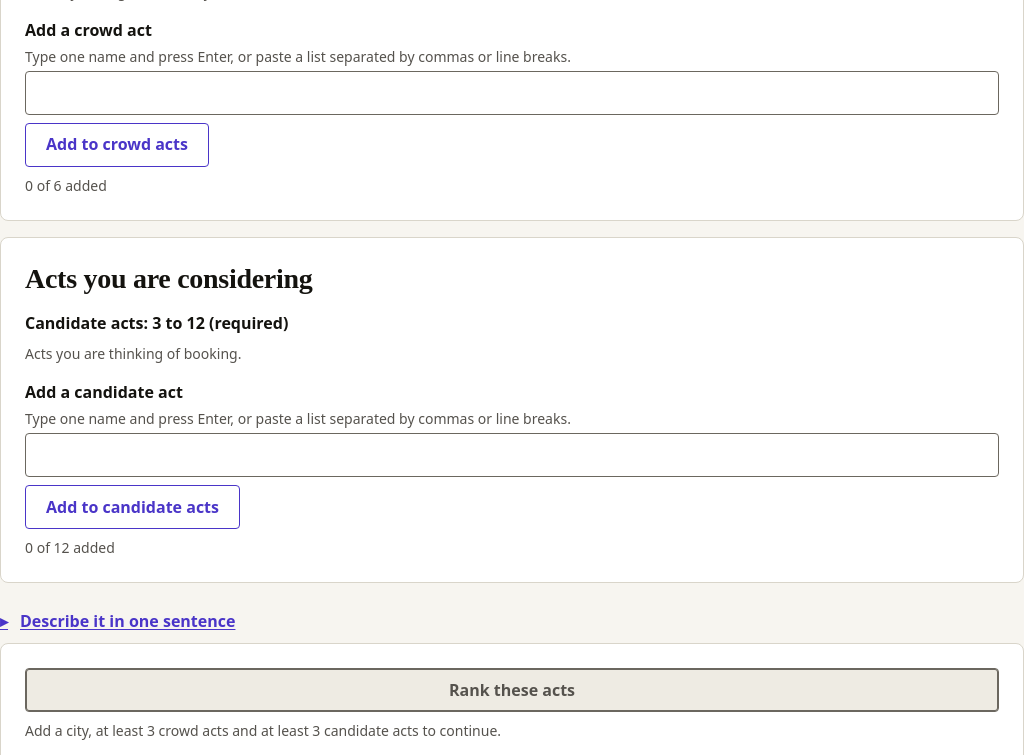
Test case: one-sentence intake in the room form › reading: the button is aria-busy with 'Reading…', the region is aria-busy and a status says what is happening
(page scrolled)
Click the heading "Describe it in one sentence": (128, 621) left=20, top=610, right=236, bottom=632
(page scrolled)
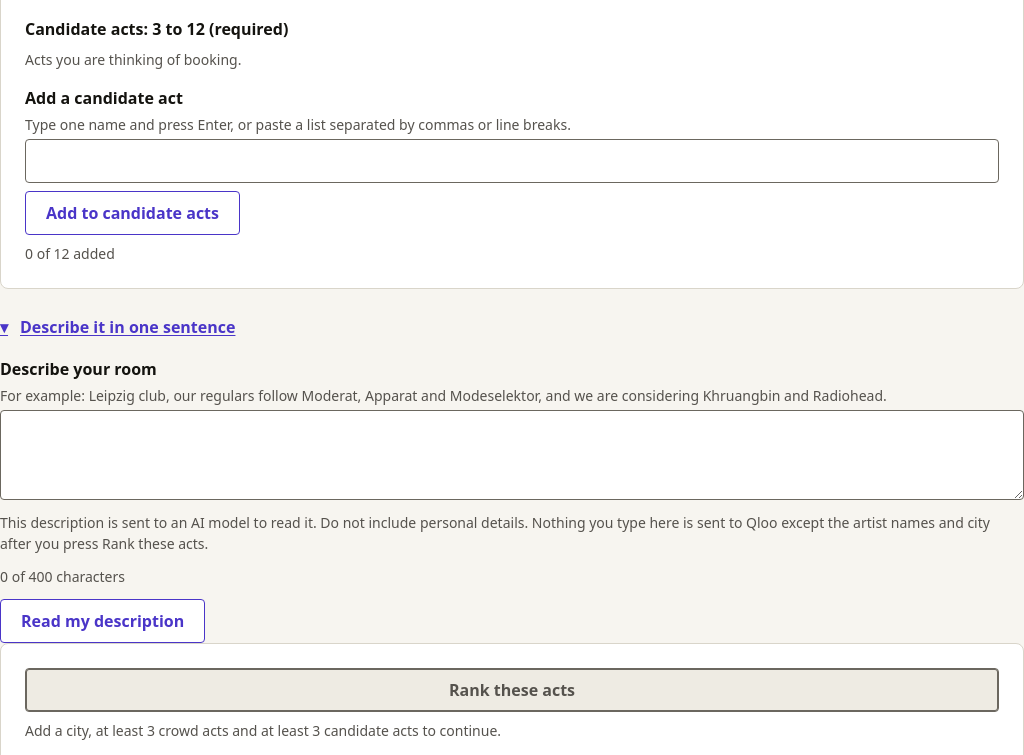
In the text box labelled "Describe your room": (512, 455) left=0, top=410, right=1023, bottom=500, type "Leipzig club"
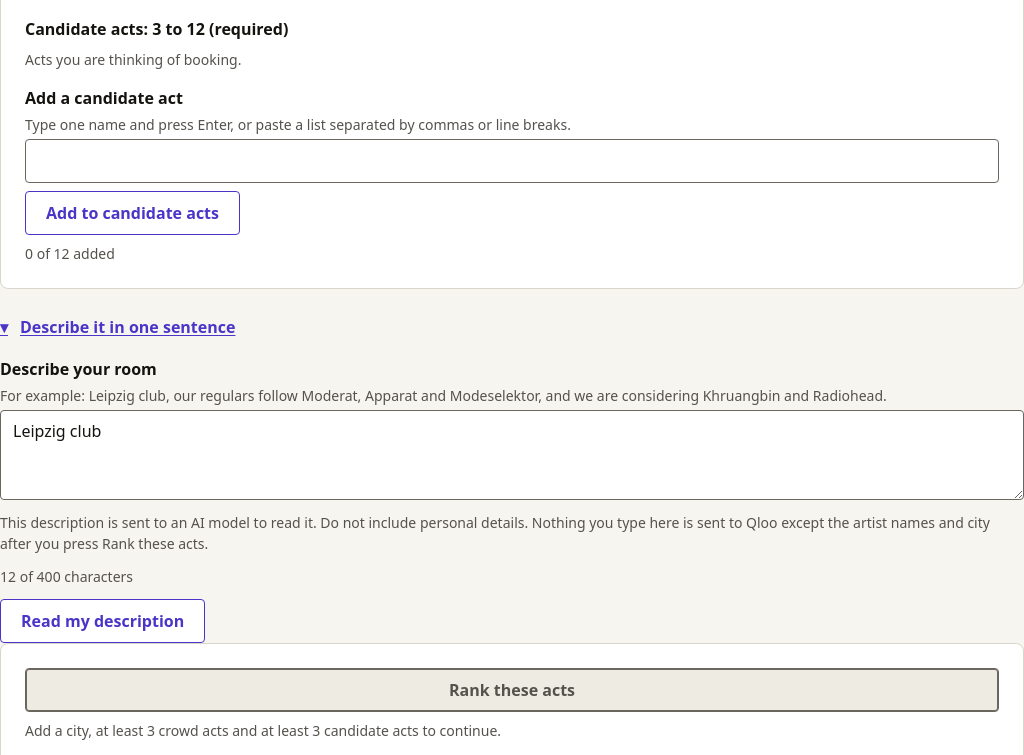
Click the button "Read my description": (103, 621) left=0, top=599, right=205, bottom=643
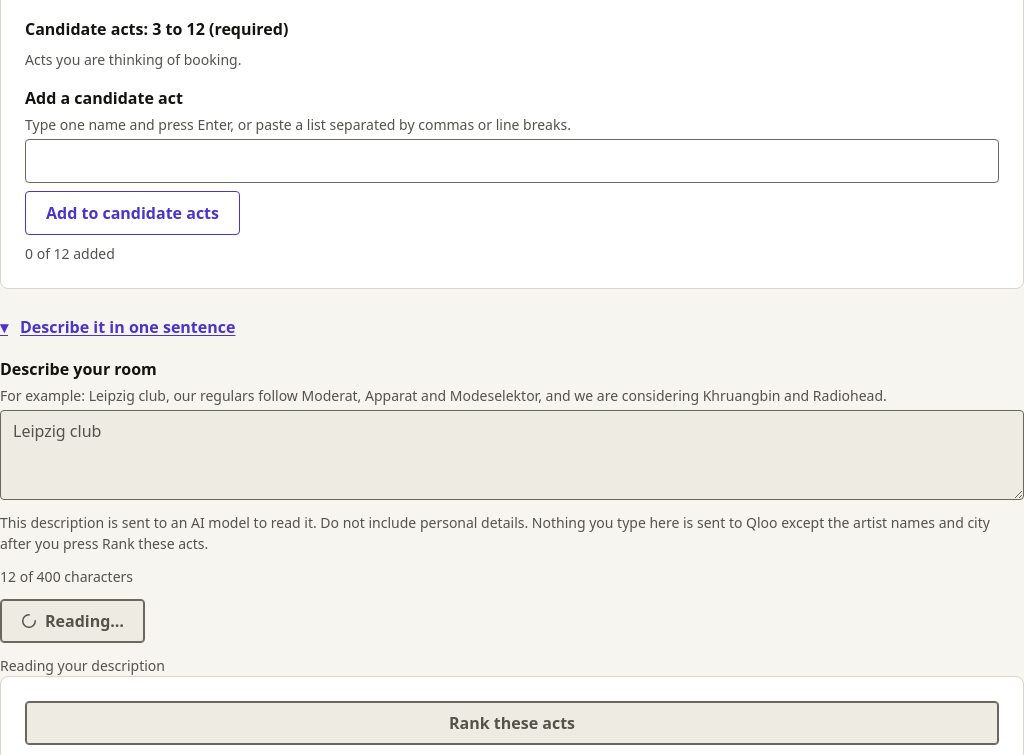
Expected: the element that starts with "Describe your room" is shown, left=0, top=349, right=1023, bottom=676
Expected: the text "Reading your description" is shown, left=0, top=656, right=165, bottom=675
